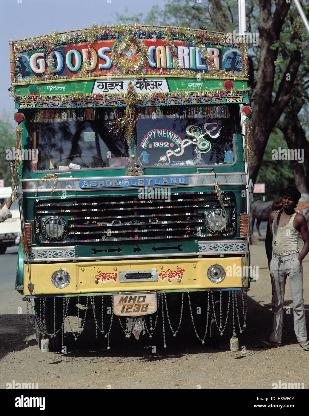truck: (2, 16, 266, 358)
